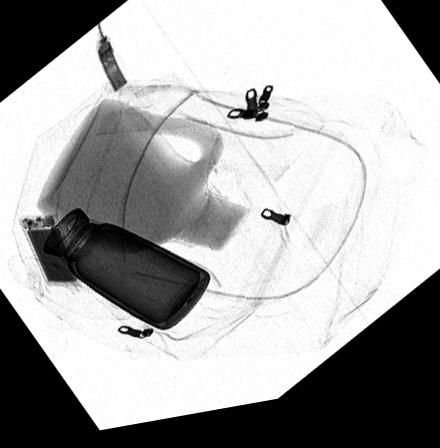Powerbank: (17, 215, 80, 288)
